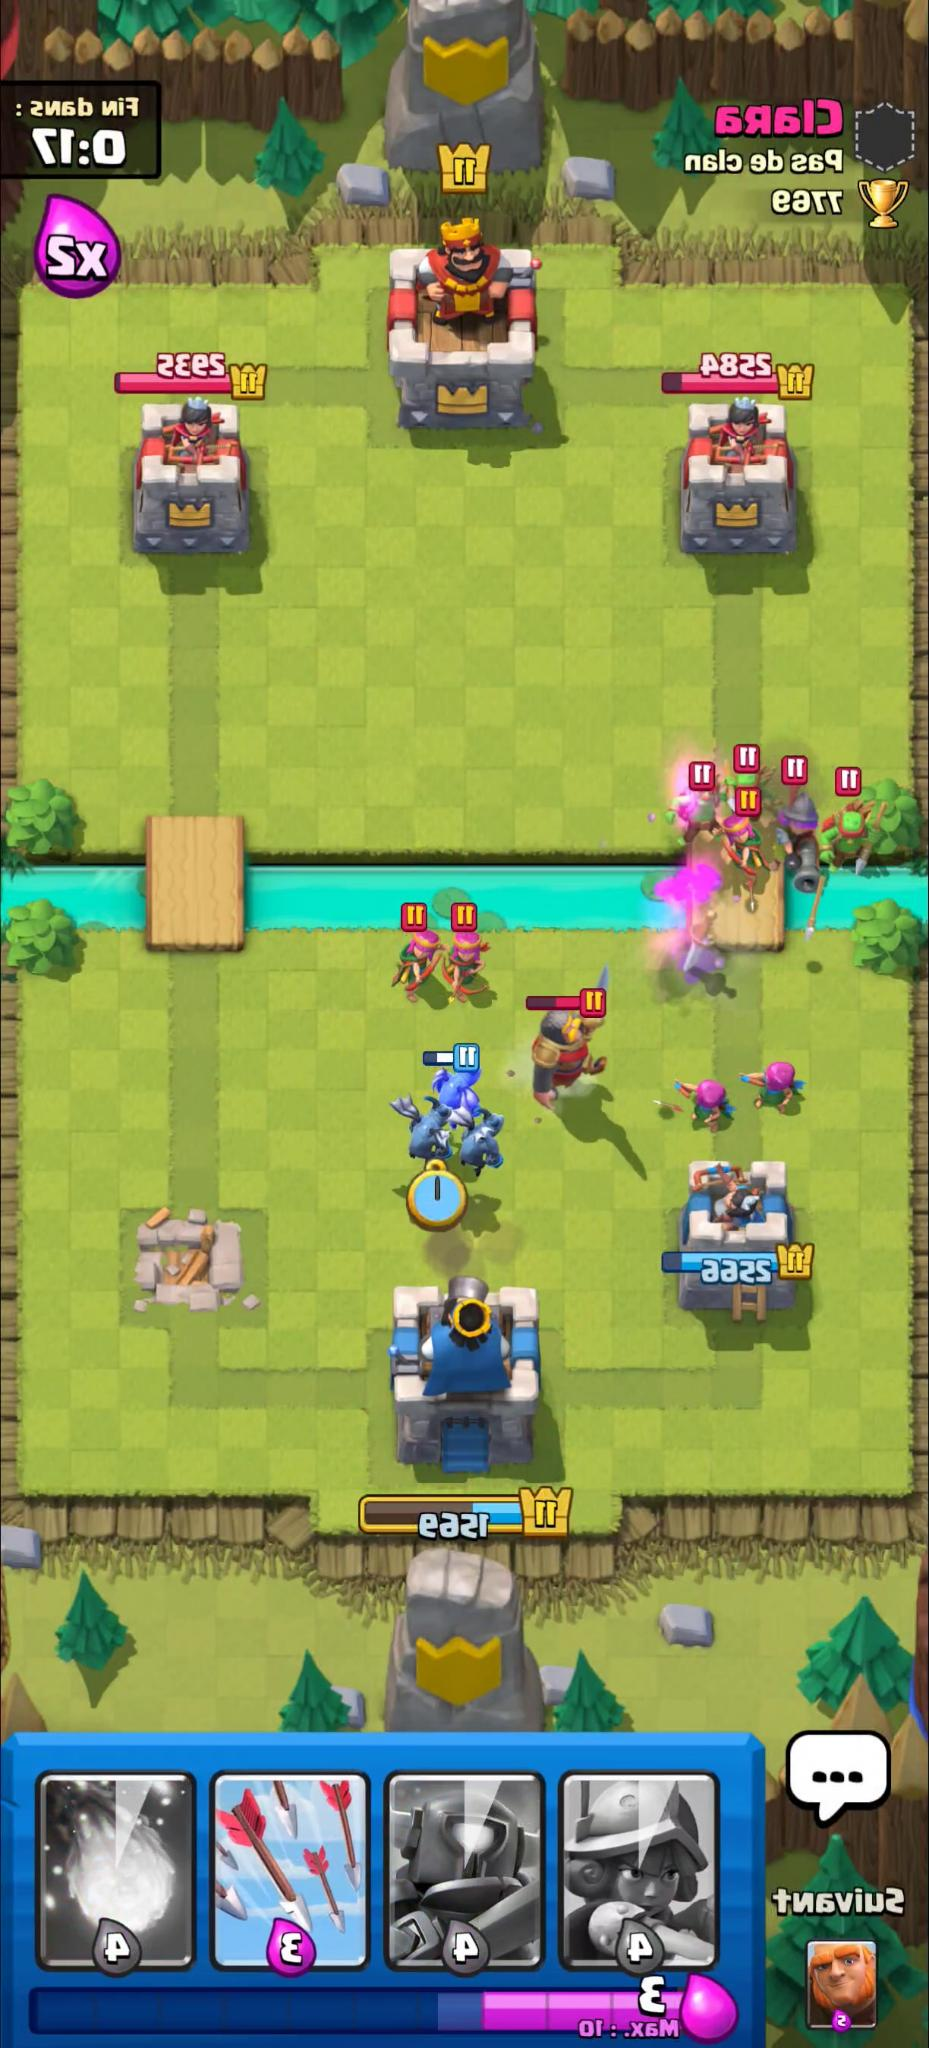archere: (385, 929, 444, 1003), (439, 927, 489, 1006), (669, 1076, 736, 1131), (736, 1062, 805, 1114), (719, 816, 767, 880)
chevalier: (527, 967, 610, 1109)
gargouille: (389, 1097, 455, 1164), (447, 1108, 503, 1178), (431, 1059, 482, 1119)
gobelin_lances: (657, 769, 730, 853), (814, 797, 890, 875), (721, 760, 767, 818)
mousquetaire: (772, 788, 822, 895)
